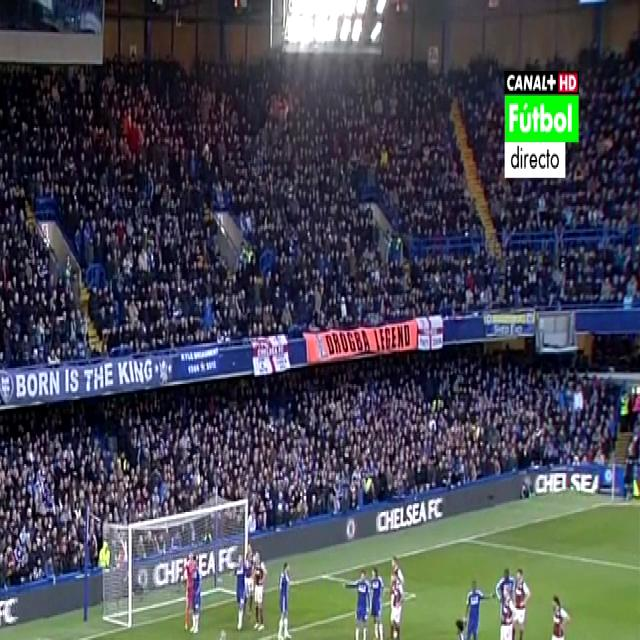referee: (206, 624, 233, 640)
soccer-player: (344, 560, 376, 640), (386, 558, 414, 640), (492, 554, 518, 640), (505, 554, 530, 640), (360, 554, 385, 640), (183, 549, 207, 637), (275, 554, 298, 640), (464, 567, 489, 640), (250, 544, 269, 633), (230, 552, 250, 635), (547, 586, 574, 640), (444, 611, 471, 640), (485, 0, 504, 15)
